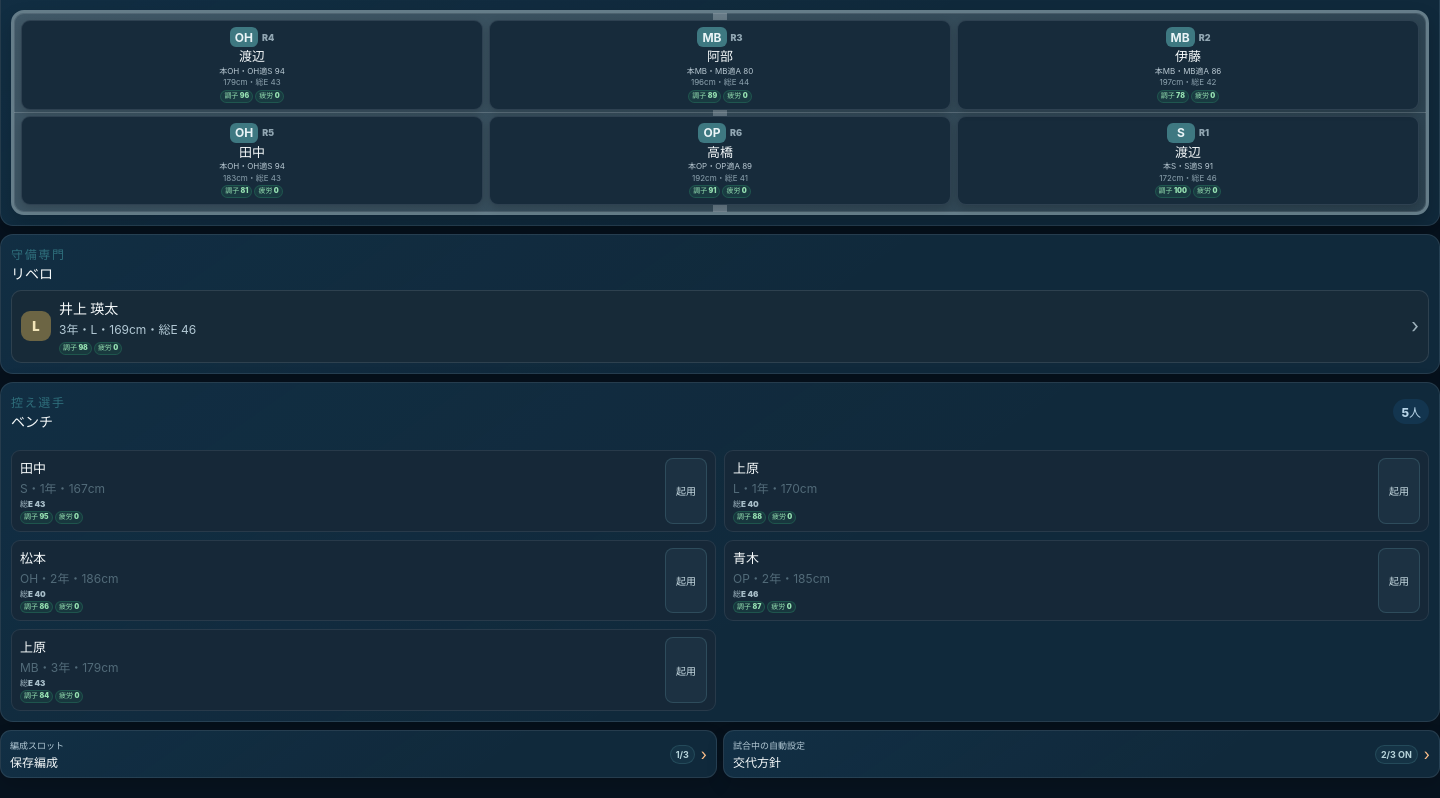
it: TeamScreen saved lineups › disables every saved-lineup operation while planning is pending
(page scrolled)
Click the button with aria-label "保存編成を開く" at (37,745), box [0,730,717,778]
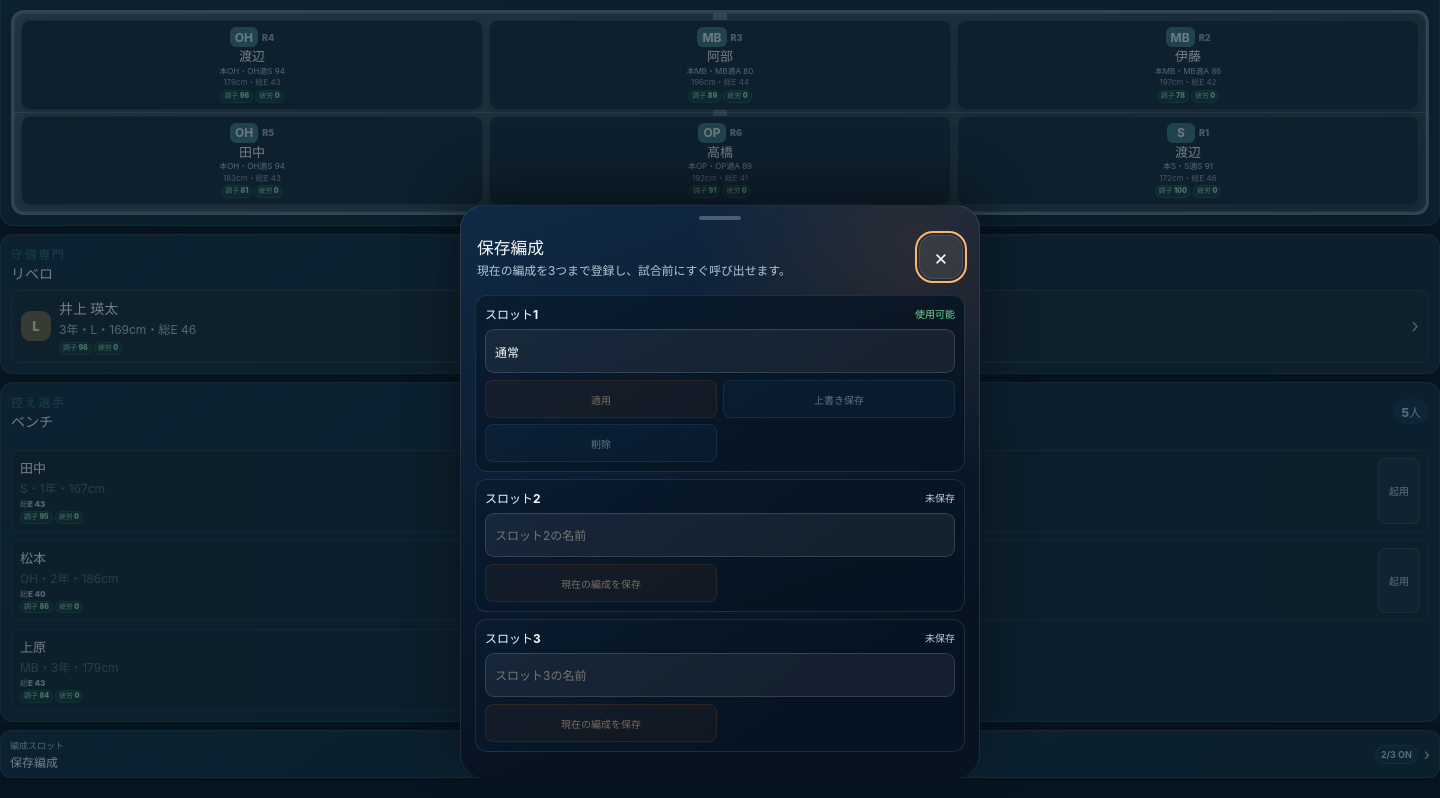
Expected: the dialog "保存編成" is shown, [460,205,980,778]
Expected: the button "適用" is disabled, [485,380,717,418]
Expected: the button "上書き保存" is disabled, [723,380,955,418]
